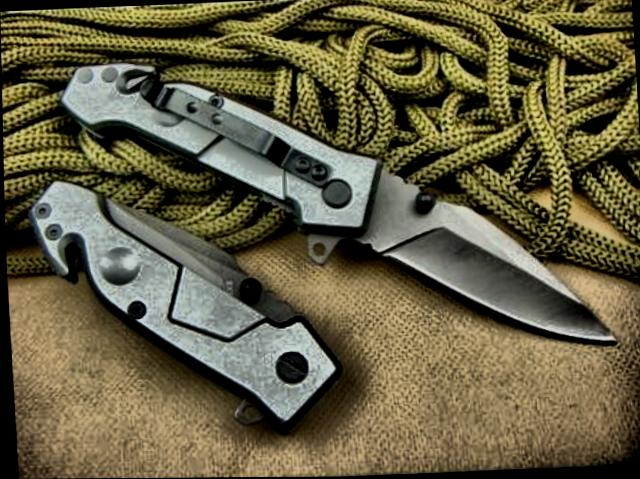knife: (331, 152, 625, 357)
